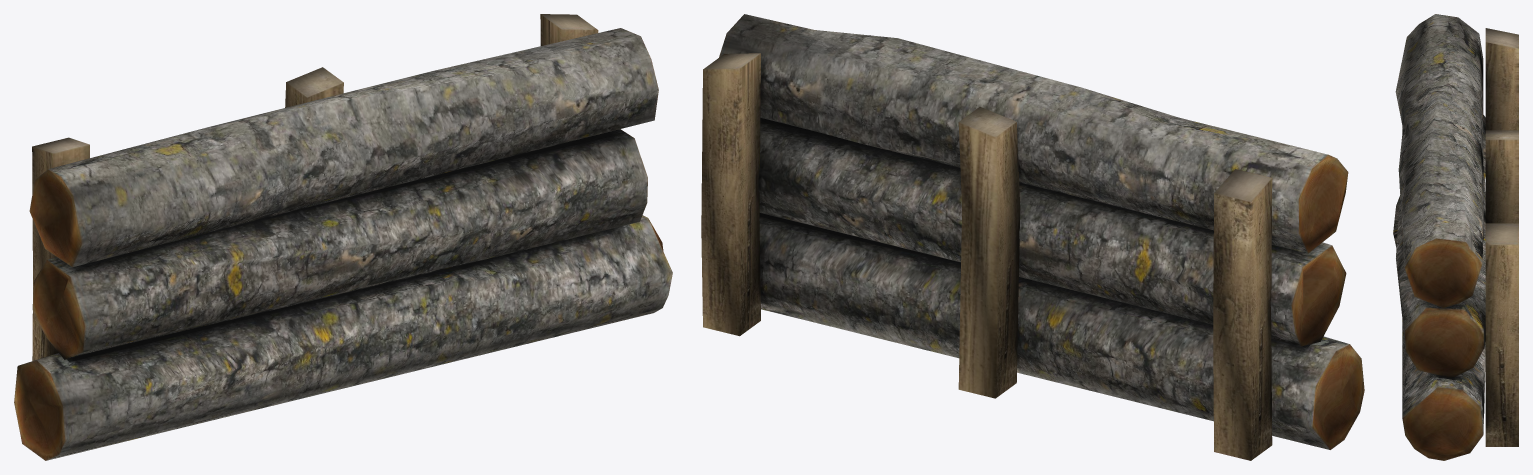
File: LogBarrier.fbx
3 renders of one model, left to right at view 1: azimuth 30°, elevation 25°; view 2: azimuth 150°, elevation 25°; view 3: azimuth 270°, elevation 25°, orthographic. The views are drawn at different scales.
Parts seen in each view (by area): view 1: LogBarrier; view 2: LogBarrier; view 3: LogBarrier.
Boxes of the visible parts, left/top/right/bottom form: LogBarrier: left=14, top=14, right=672, bottom=460; LogBarrier: left=701, top=14, right=1364, bottom=460; LogBarrier: left=1393, top=14, right=1518, bottom=460.
Size of the model in its own units: 321 by 142 by 71.36.
